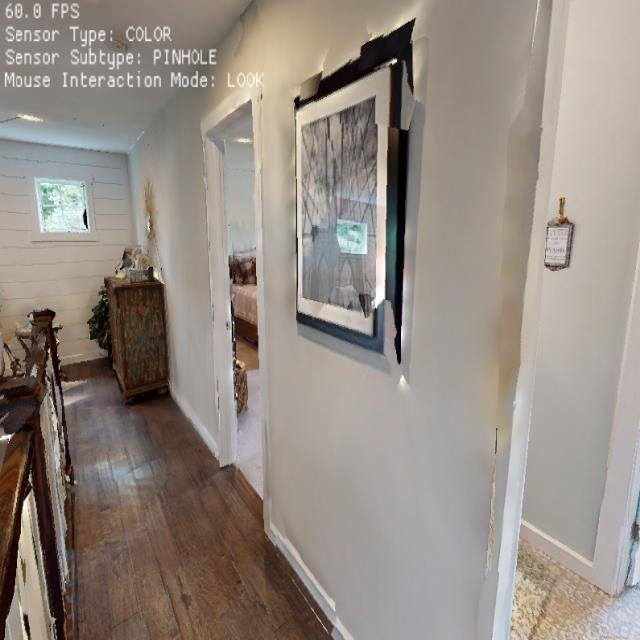door-frame: (186, 76, 276, 530)
